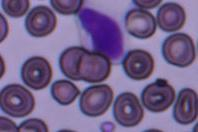M: (76, 1, 128, 64)
